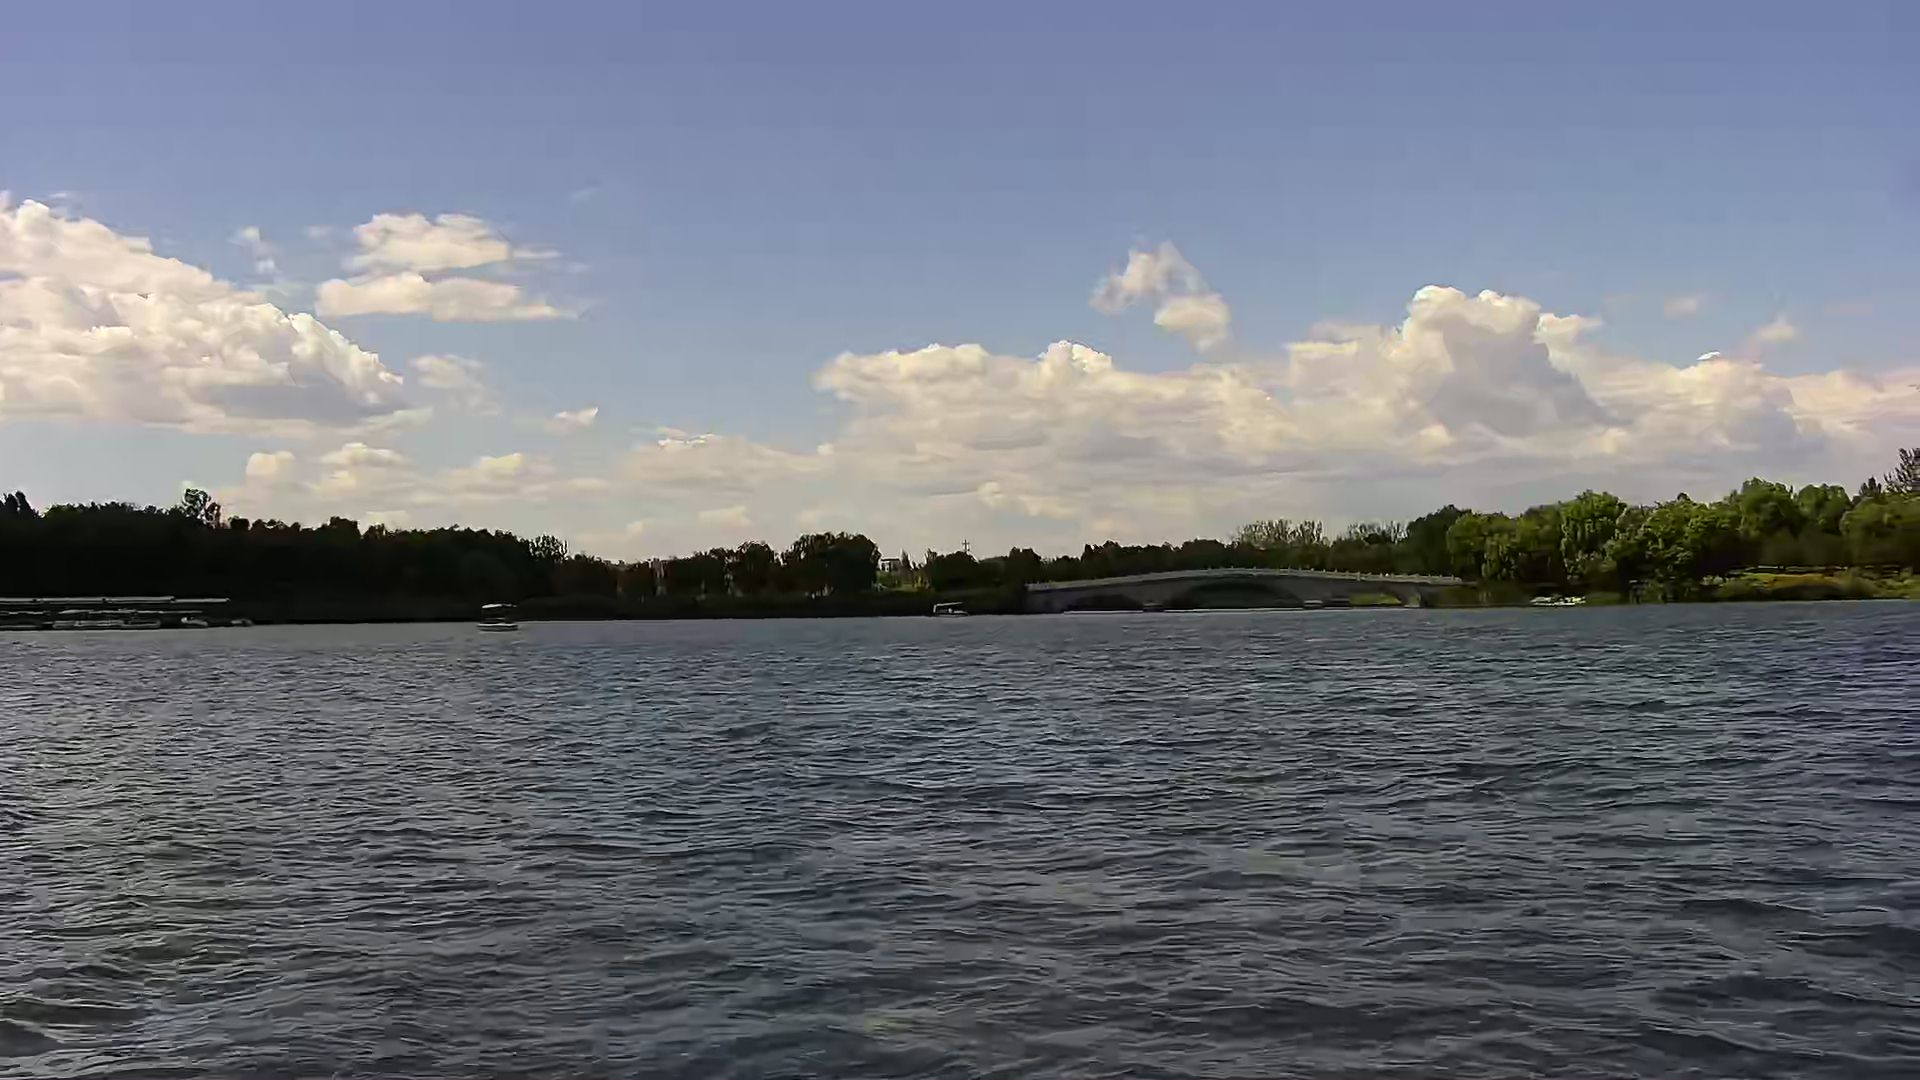boat: (476, 597, 527, 636), (927, 599, 972, 620)
bridge: (1026, 564, 1462, 612)
harbor: (4, 589, 256, 636)
